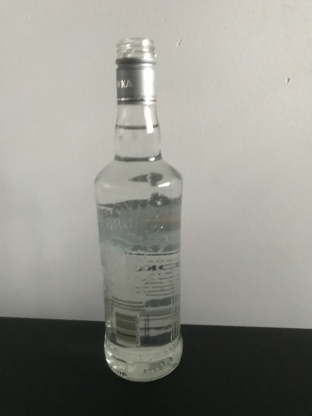nakretka: (113, 38, 158, 106)
